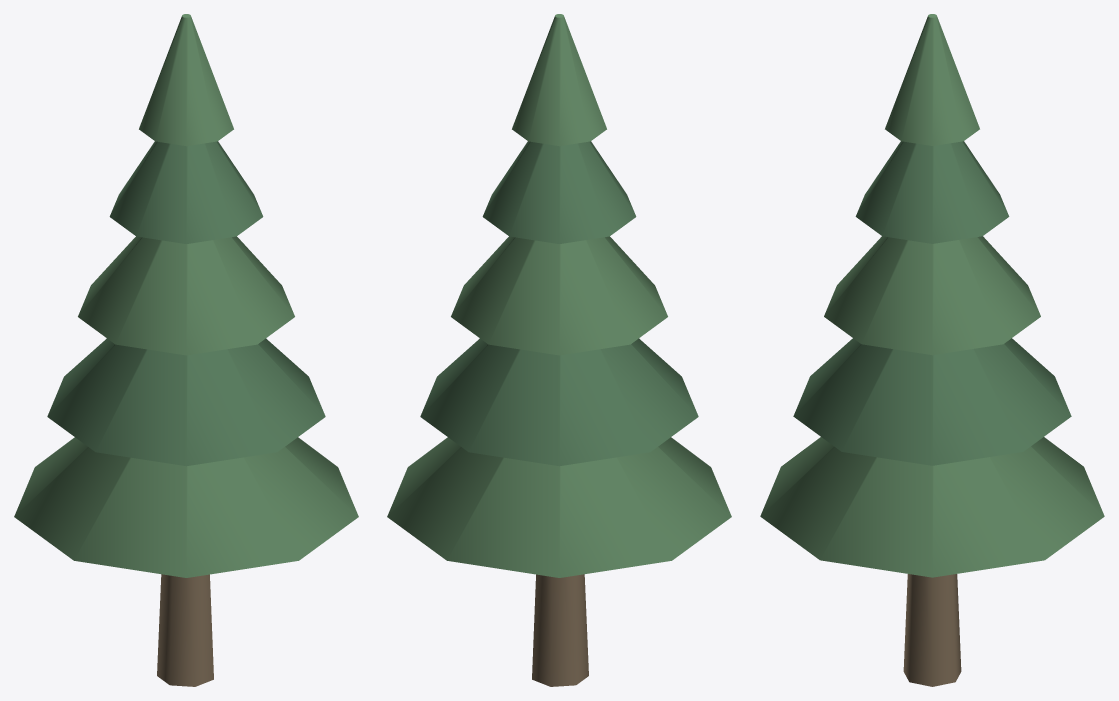
The model's file is pine.glb.
The picture shows the model from 3 angles, left to right: view 1: azimuth 30°, elevation 25°; view 2: azimuth 150°, elevation 25°; view 3: azimuth 270°, elevation 25°; orthographic projection.
Visible parts, largest first — view 1: pine; view 2: pine; view 3: pine.
Boxes of the visible parts, bbox=[...] form: pine: bbox=[14, 14, 358, 686]; pine: bbox=[387, 14, 731, 686]; pine: bbox=[760, 14, 1104, 686].
Bounding box in the file's own units: 25.22 × 54 × 25.61.
